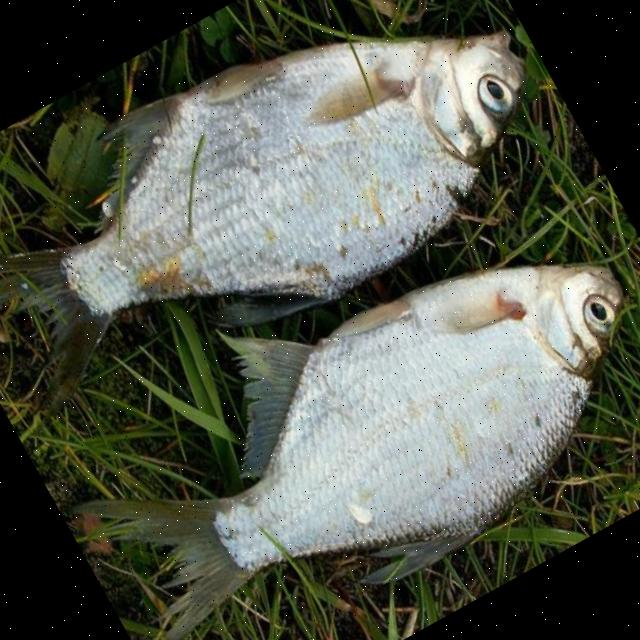ikan: (29, 154, 640, 640), (0, 0, 584, 467)
